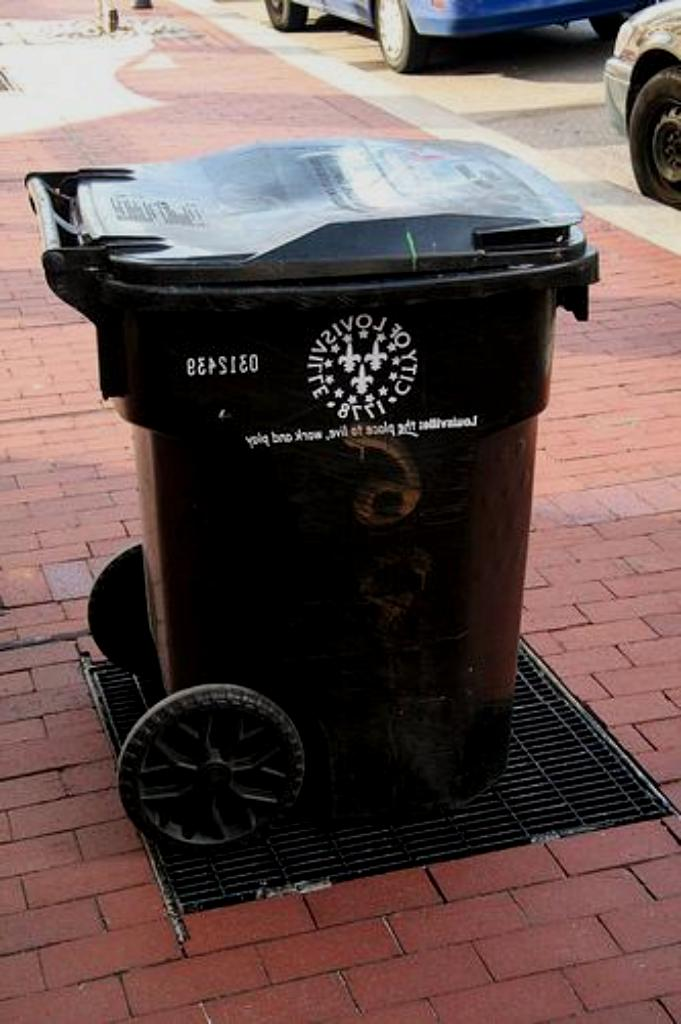dustbin: (10, 100, 592, 912)
